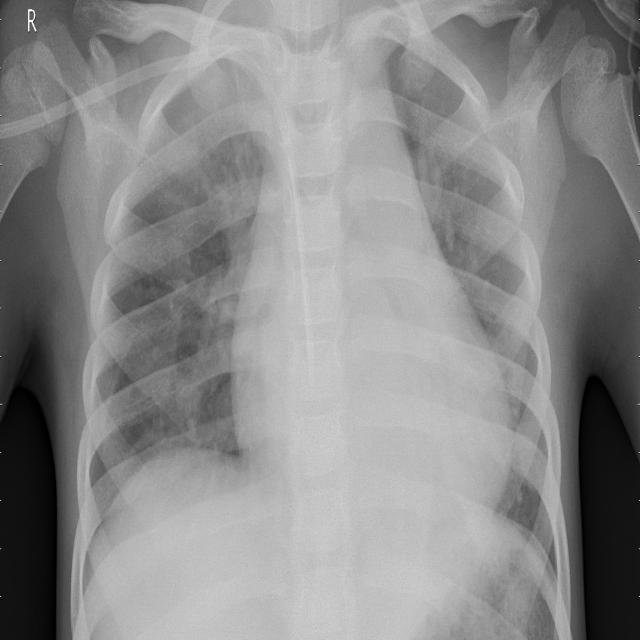low-pneumonia: (185, 38, 272, 247), (176, 260, 250, 414), (418, 103, 469, 250)
